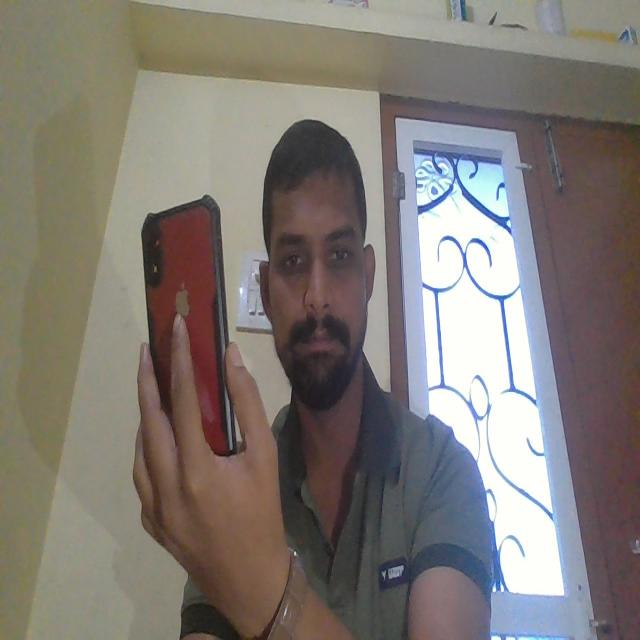phone: (139, 190, 234, 340)
